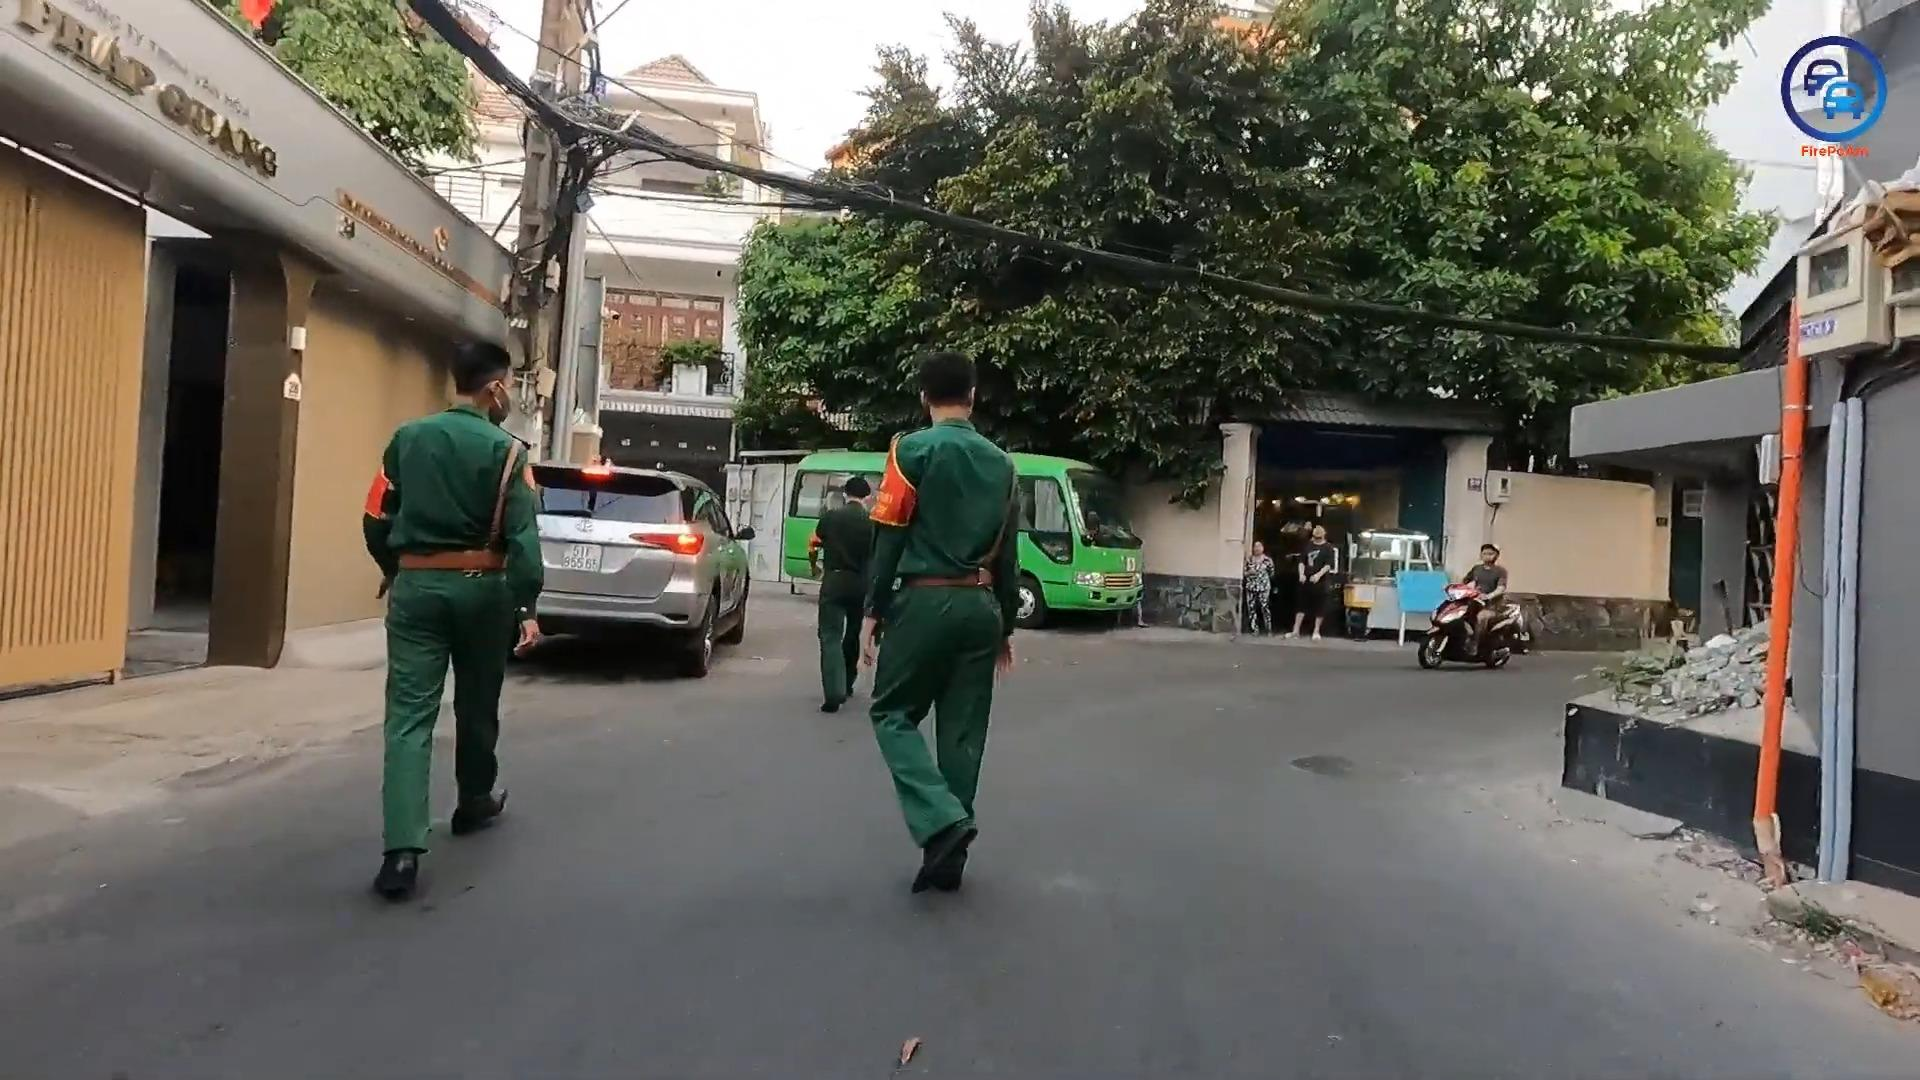bien_so: (560, 541, 606, 573)
